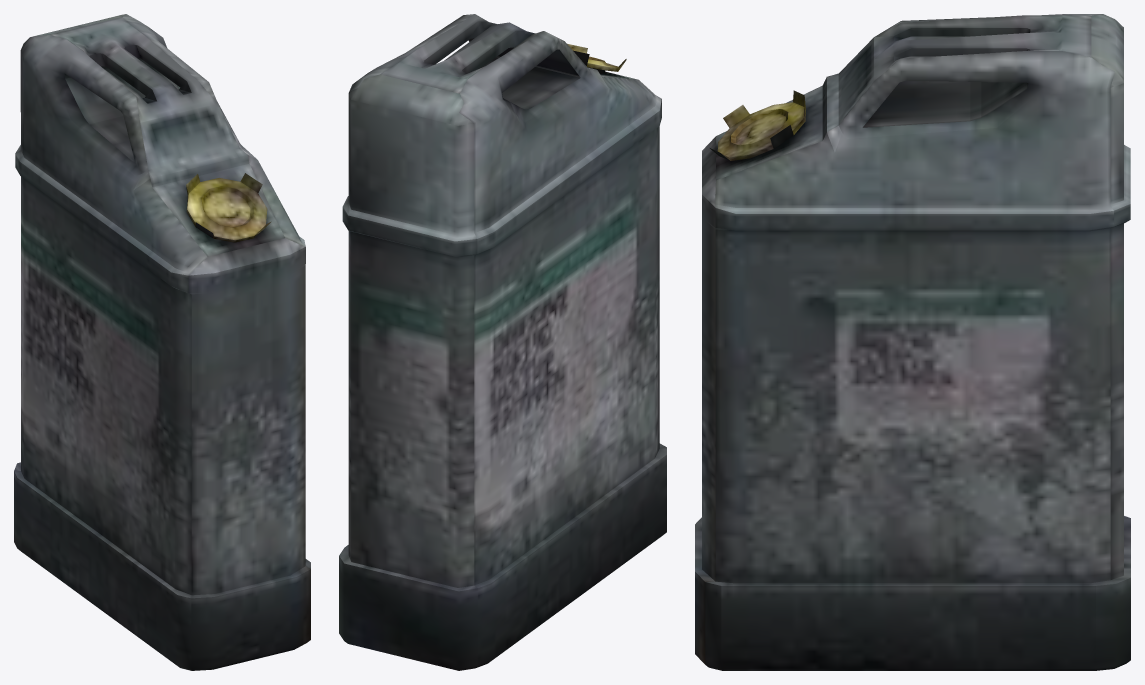
Rendered from metalgascan.glb.
3 renders of one model, left to right at view 1: azimuth 30°, elevation 25°; view 2: azimuth 150°, elevation 25°; view 3: azimuth 270°, elevation 25°, orthographic. The views are drawn at different scales.
Parts seen in each view (by area): view 1: 0_metalgascan; view 2: 0_metalgascan; view 3: 0_metalgascan.
Boxes of the visible parts, bbox=[...] form: 0_metalgascan: bbox=[14, 14, 310, 670]; 0_metalgascan: bbox=[339, 14, 666, 670]; 0_metalgascan: bbox=[695, 14, 1130, 670].
Bounding box in the file's own units: 0.2054 × 0.756 × 0.4964.
1 material, 1 textured.
